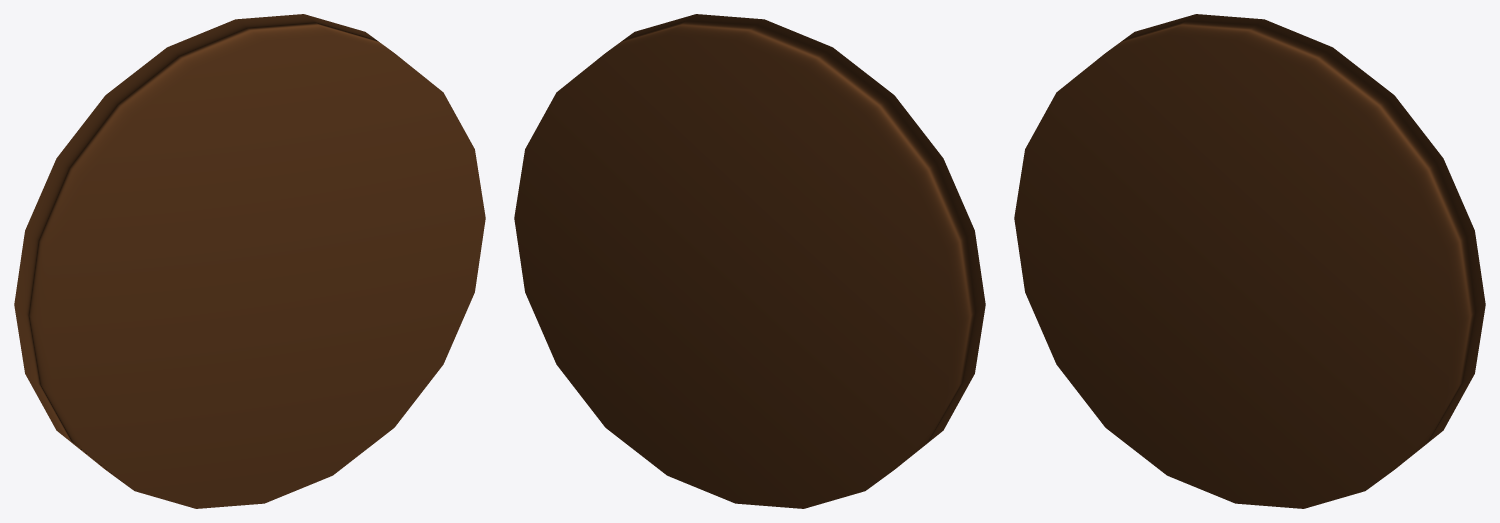
Rendered from roundthing.fbx.
3 renders of one model, left to right at view 1: azimuth 30°, elevation 25°; view 2: azimuth 150°, elevation 25°; view 3: azimuth 330°, elevation 25°, orthographic.
Visible parts, largest first — view 1: Cylinder; view 2: Cylinder; view 3: Cylinder.
Boxes of the visible parts, x1,y1,x2,y2 form: Cylinder: [14, 14, 485, 508]; Cylinder: [514, 14, 985, 508]; Cylinder: [1014, 14, 1485, 508].
Bounding box in the file's own units: 200 × 200 × 22.79.
